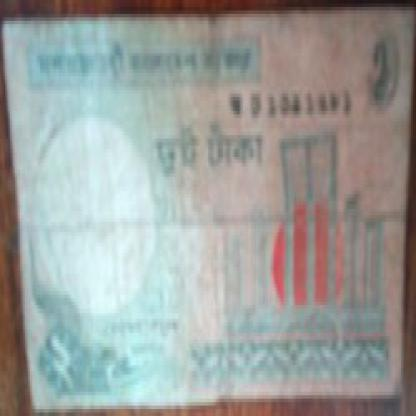two taka: (38, 319, 100, 412), (369, 21, 396, 128)
